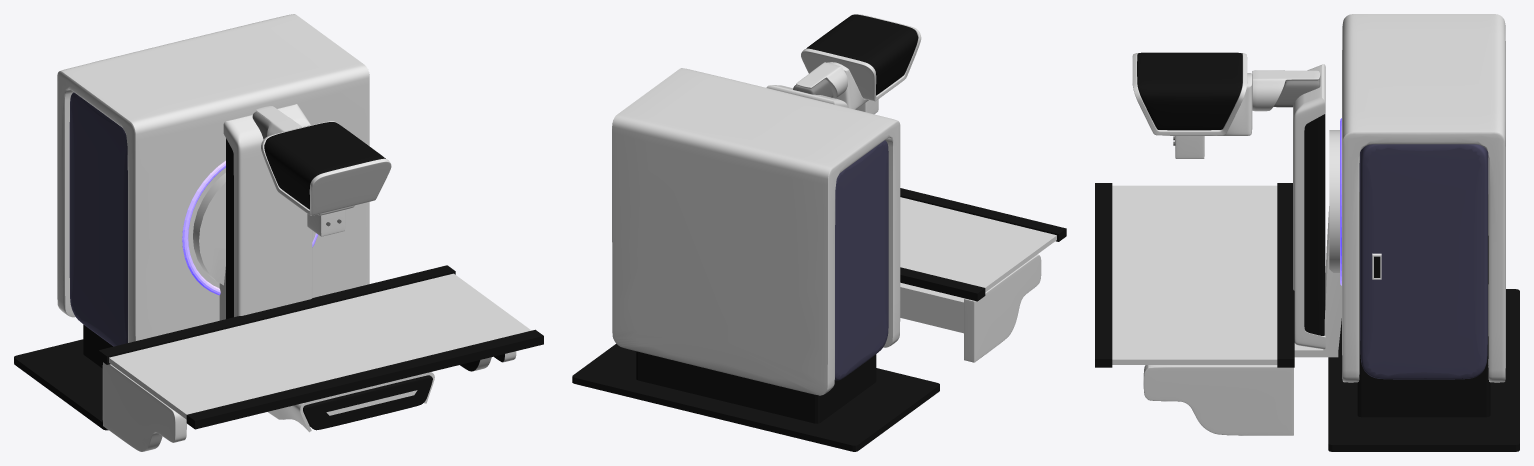
The model's file is xrayMain5.glb.
The picture shows the model from 3 angles, left to right: view 1: azimuth 30°, elevation 25°; view 2: azimuth 150°, elevation 25°; view 3: azimuth 270°, elevation 25°; orthographic projection. The views are drawn at different scales.
Visible parts, largest first — view 1: MainBox, Table, MainHandler, Tube, TableHandler, Basement, Reciever, Rotator, Light.001, Piston, Collemator; view 2: MainBox, Basement, Table, TableHandler, Tube, Piston, Collemator; view 3: MainBox, Table, Basement, TableHandler, Tube, MainHandler, Rotator, Piston, Collemator.
Part boxes in pixels (<box>): MainBox: <box>57,14,369,346</box>; Table: <box>98,265,543,429</box>; MainHandler: <box>223,104,312,318</box>; Tube: <box>261,121,391,215</box>; TableHandler: <box>102,351,516,451</box>; Basement: <box>14,324,113,430</box>; Reciever: <box>268,372,434,432</box>; Rotator: <box>193,173,315,320</box>; Light.001: <box>182,160,317,295</box>; Piston: <box>252,106,302,139</box>; Collemator: <box>307,205,354,236</box>; MainBox: <box>612,68,900,395</box>; Basement: <box>572,343,939,451</box>; Table: <box>900,188,1066,301</box>; TableHandler: <box>900,254,1041,362</box>; Tube: <box>801,14,921,101</box>; Piston: <box>793,62,847,98</box>; Collemator: <box>827,62,878,114</box>; MainBox: <box>1342,14,1505,382</box>; Table: <box>1095,183,1294,367</box>; Basement: <box>1328,192,1519,451</box>; TableHandler: <box>1143,365,1293,435</box>; Tube: <box>1132,52,1247,135</box>; MainHandler: <box>1293,64,1325,349</box>; Rotator: <box>1294,130,1341,357</box>; Piston: <box>1252,70,1320,111</box>; Collemator: <box>1170,73,1252,158</box>.
Bounding box in the file's own units: 4.35 × 3.53 × 4.43.
